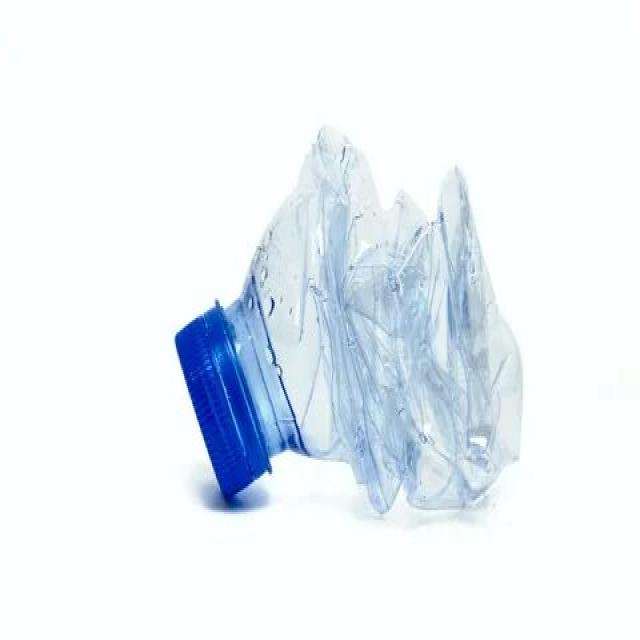blue: (169, 122, 524, 520)
